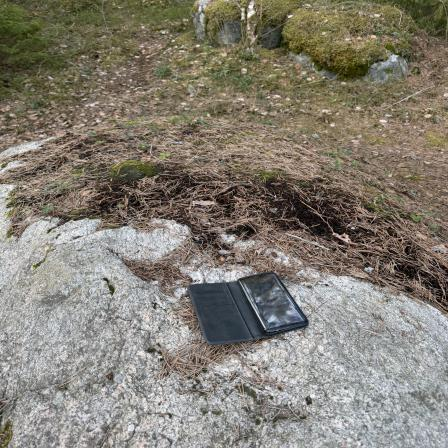phone: (192, 275, 313, 344)
